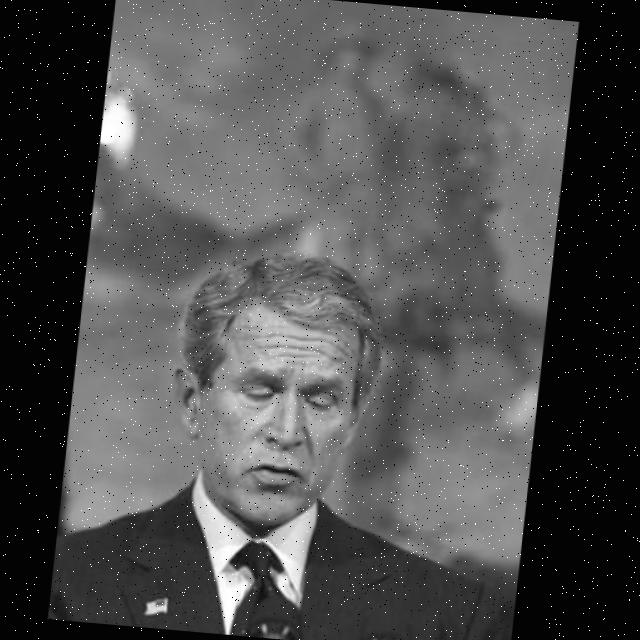face: (162, 266, 384, 536)
